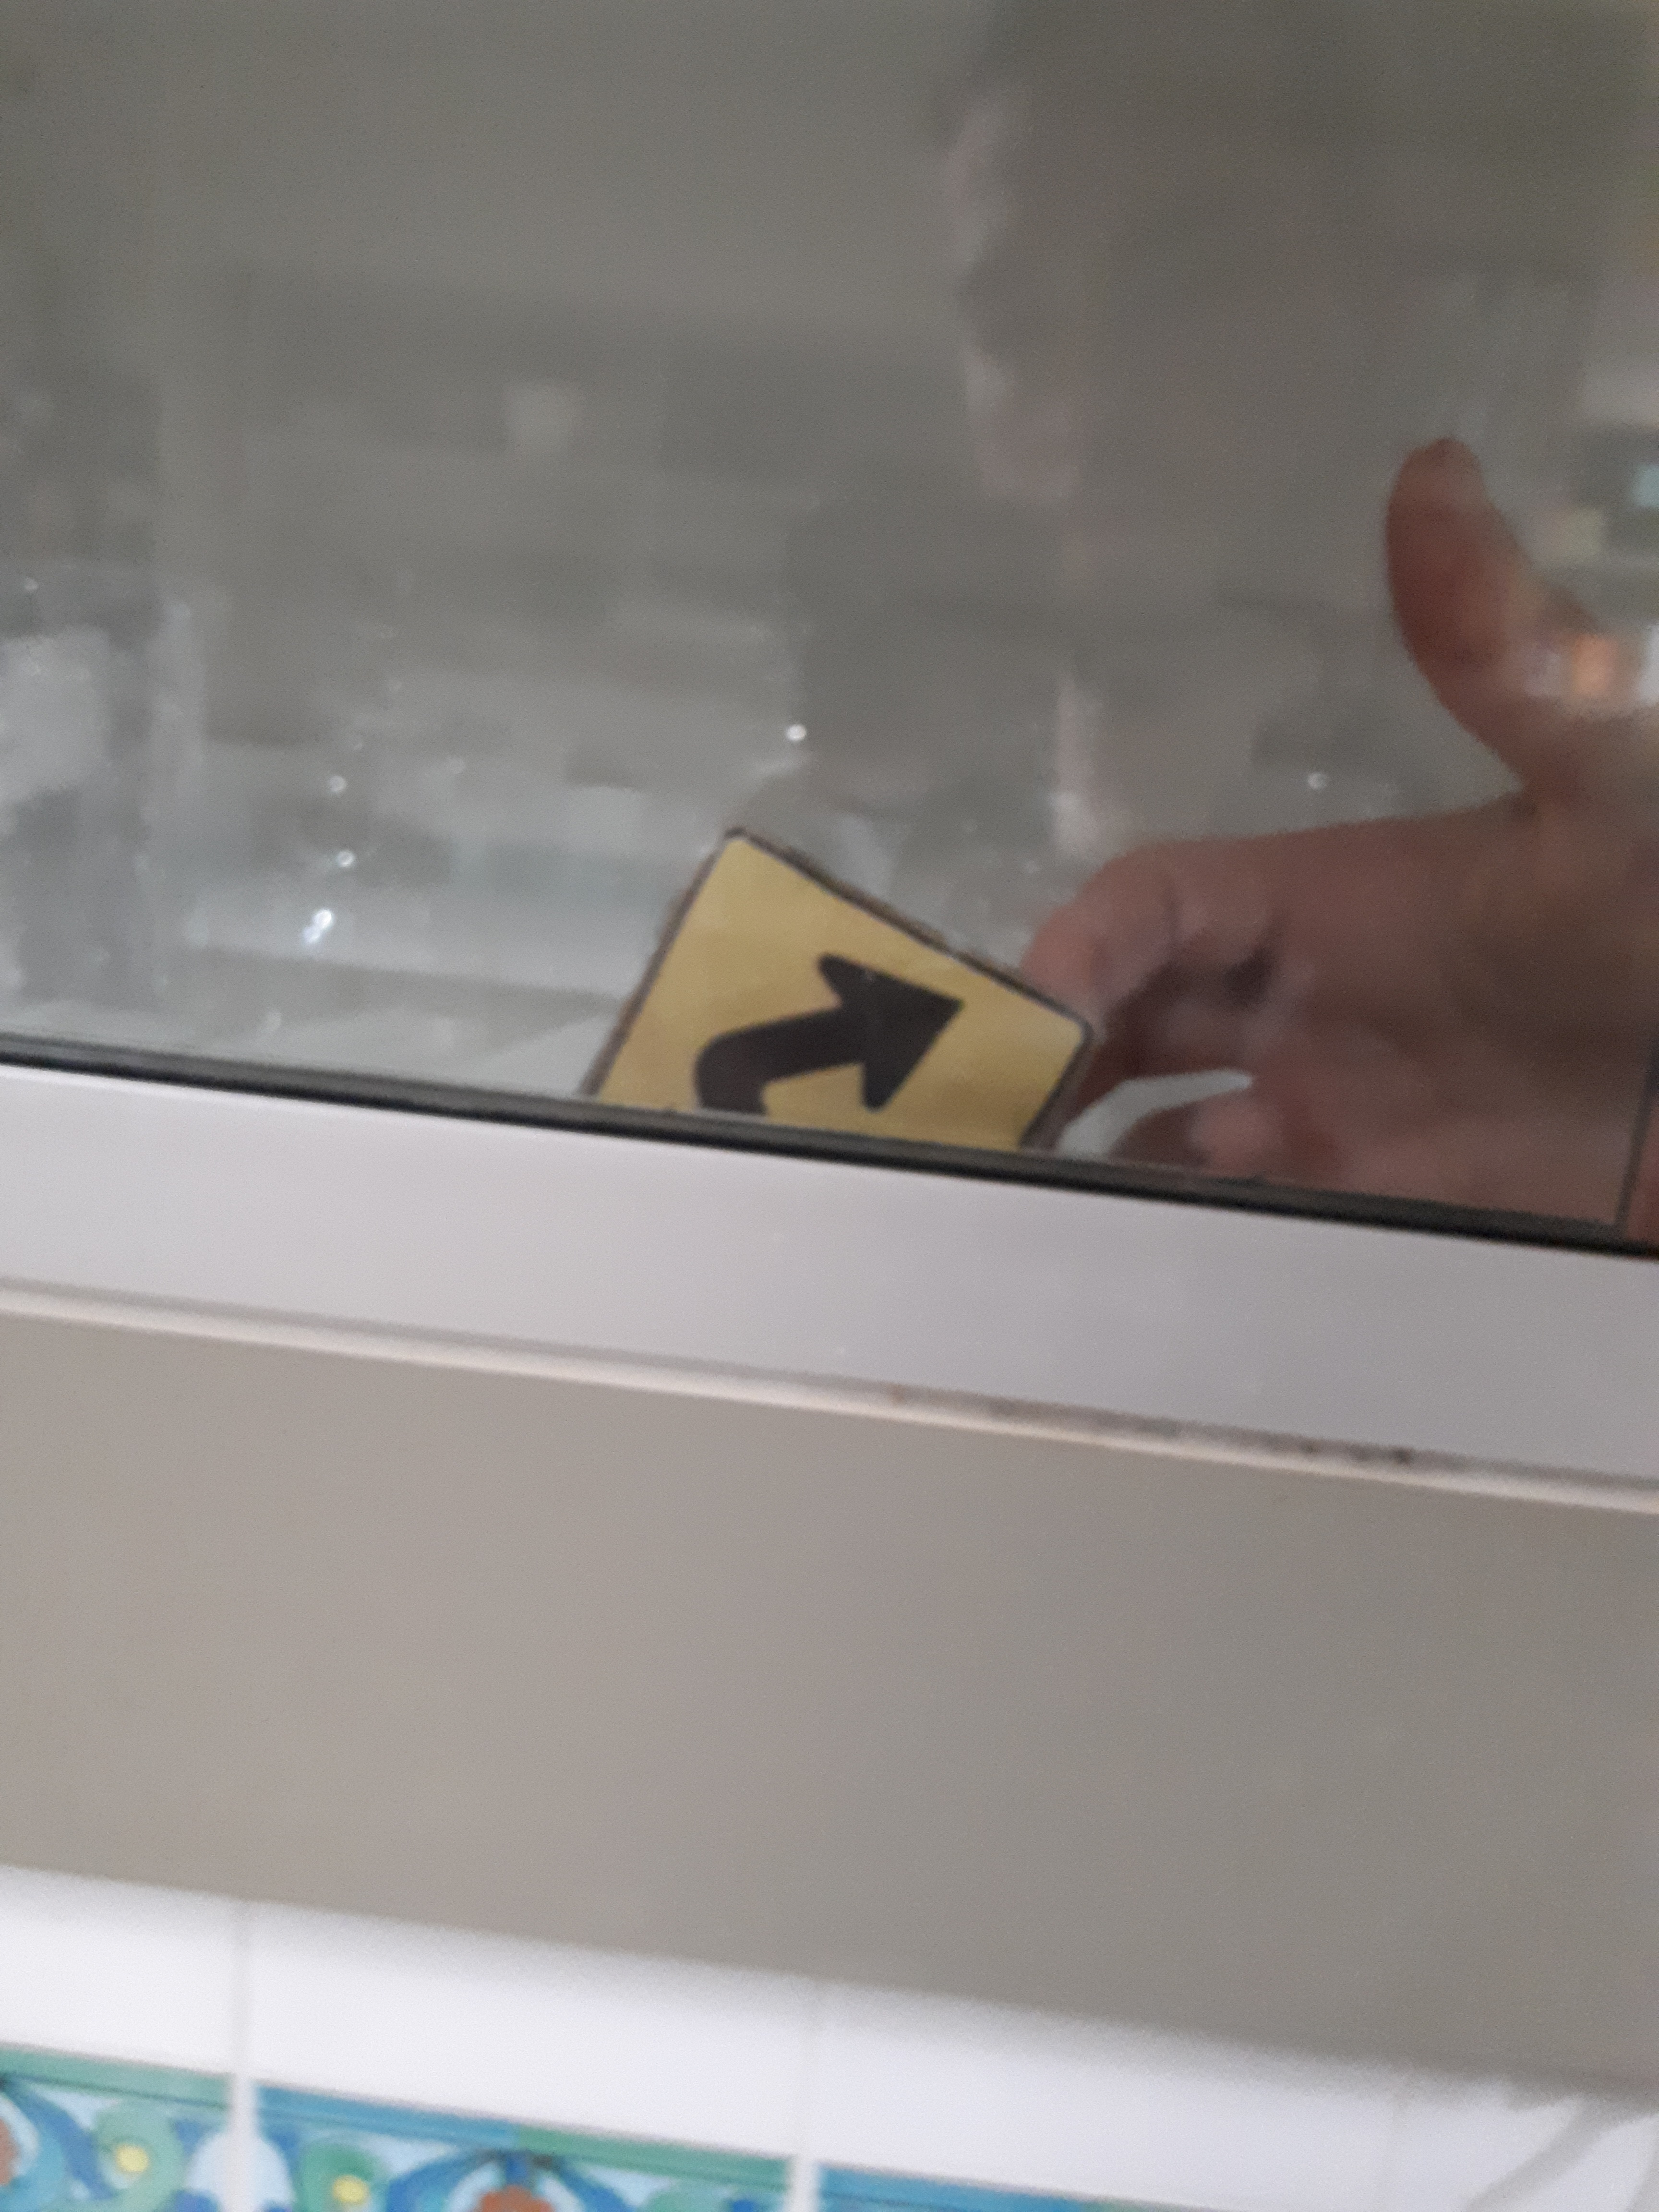right: (586, 881, 1087, 1205)
